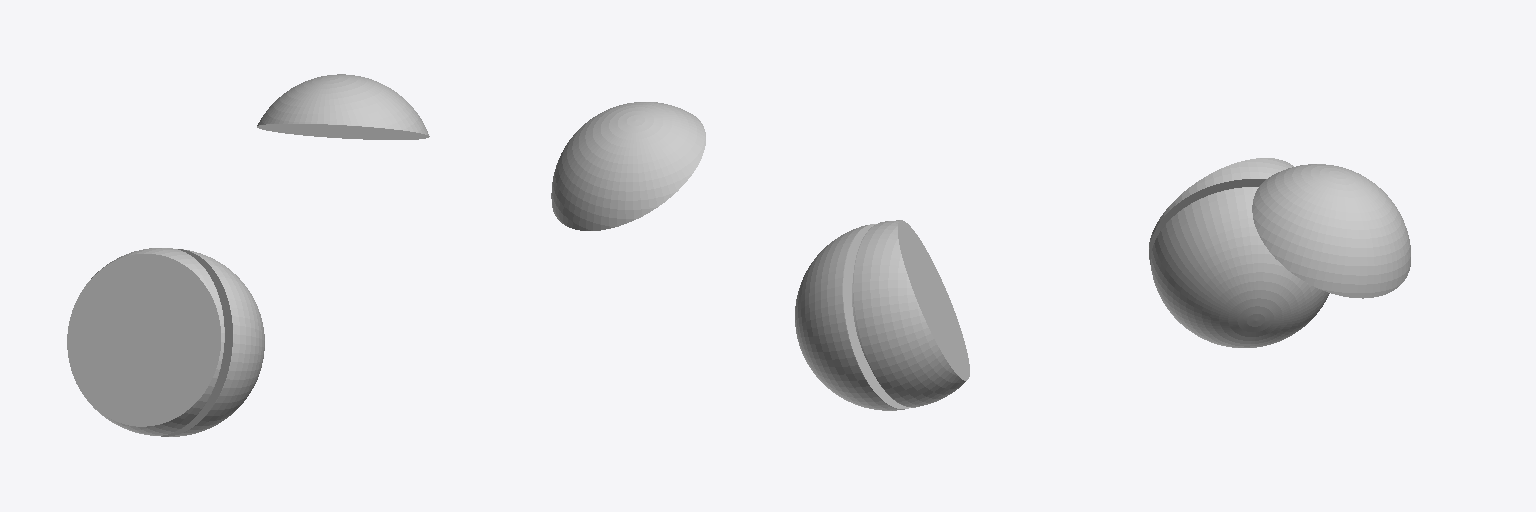
The model's file is Drone166_000014.obj.
The picture shows the model from 3 angles: view 1: azimuth 30°, elevation 25°; view 2: azimuth 150°, elevation 25°; view 3: azimuth 270°, elevation 25°; orthographic projection.
Visible parts, largest first — view 1: Sphere.006, Sphere.000_Sphere.007; view 2: Sphere.006, Sphere.000_Sphere.007; view 3: Sphere.006, Sphere.000_Sphere.007.
Boxes of the visible parts, <box> form: Sphere.006: <box>67,248,264,436</box>; Sphere.000_Sphere.007: <box>257,74,429,139</box>; Sphere.006: <box>795,220,969,410</box>; Sphere.000_Sphere.007: <box>551,102,705,230</box>; Sphere.006: <box>1149,158,1329,347</box>; Sphere.000_Sphere.007: <box>1252,164,1410,298</box>.
Size of the model in its own units: 4.53 by 3.13 by 2.79.